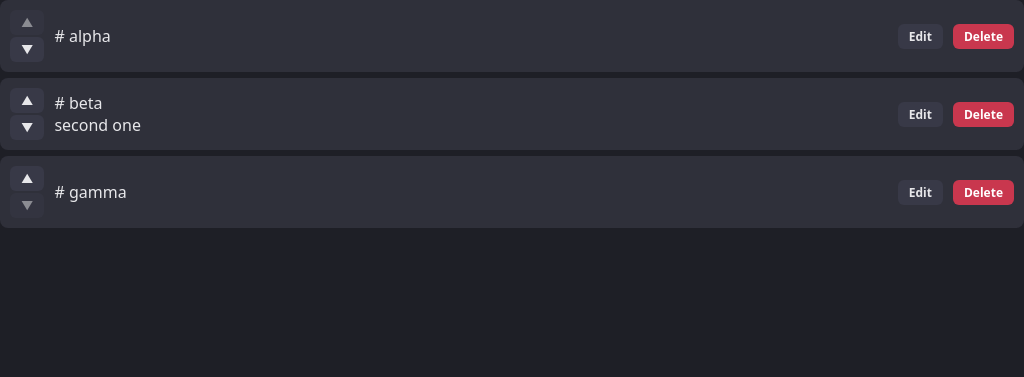
Scenario: ChannelsPanel - editing › won't save without a name, and Cancel discards the edit
The width and height of the screenshot is (1024, 377).
Click the button "Edit" in the row of "alpha": x=920, y=36 [898, 24, 943, 48]
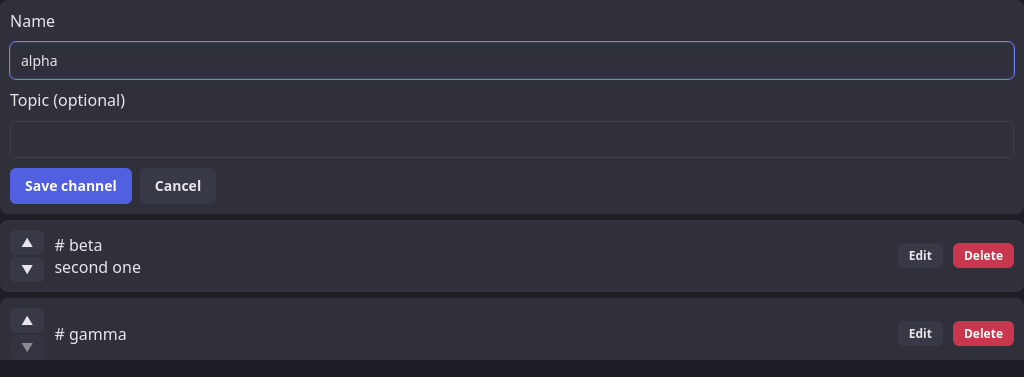
Clear the 1st field showing "alpha": x=512, y=60 [10, 42, 1014, 79]
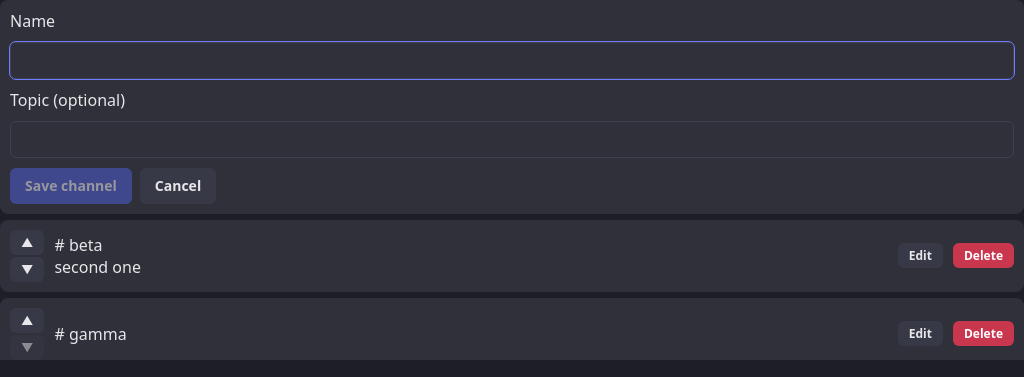
Now the button "Save channel" is disabled, box [10, 168, 132, 204]
Click the button "Cancel": x=178, y=186 [140, 168, 216, 204]
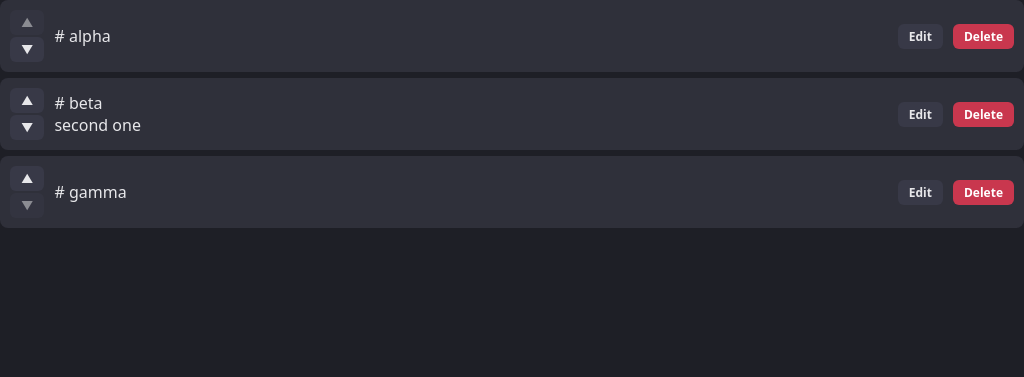
Now the element with class "friend-request-row" shows "# alpha", box [0, 0, 1023, 72]
